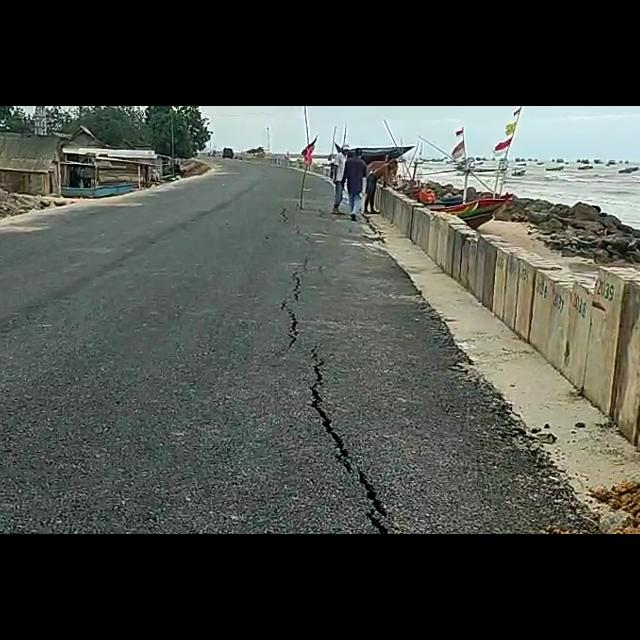retak_memanjang: (292, 334, 406, 534), (262, 205, 317, 360)
